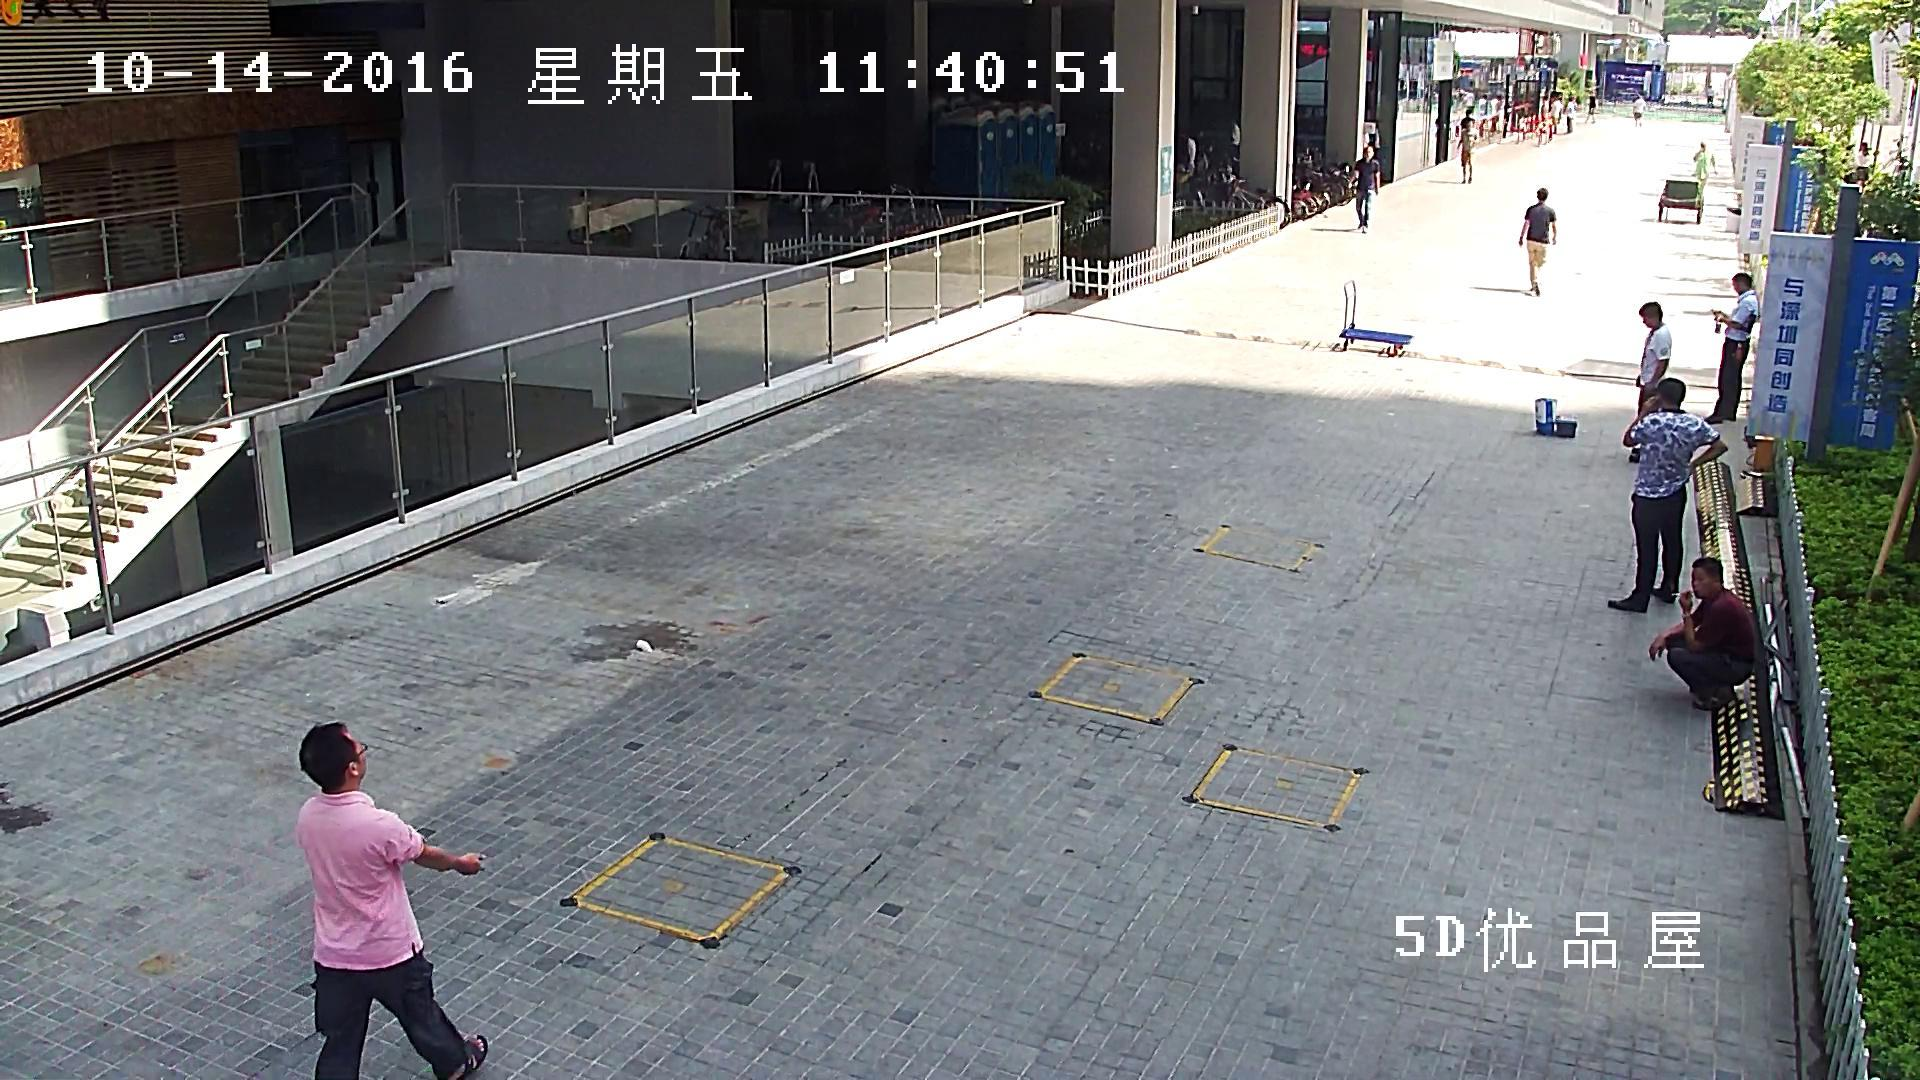person: (295, 723, 488, 1080), (1607, 378, 1727, 614), (1648, 558, 1755, 710), (1704, 272, 1760, 425), (1628, 302, 1671, 463), (1519, 188, 1557, 295), (1353, 145, 1380, 232), (1692, 142, 1718, 206), (1457, 117, 1475, 182), (1855, 141, 1870, 192), (1550, 94, 1563, 132), (1632, 94, 1645, 126), (1565, 95, 1575, 132), (1586, 91, 1594, 122), (1706, 85, 1713, 107)
